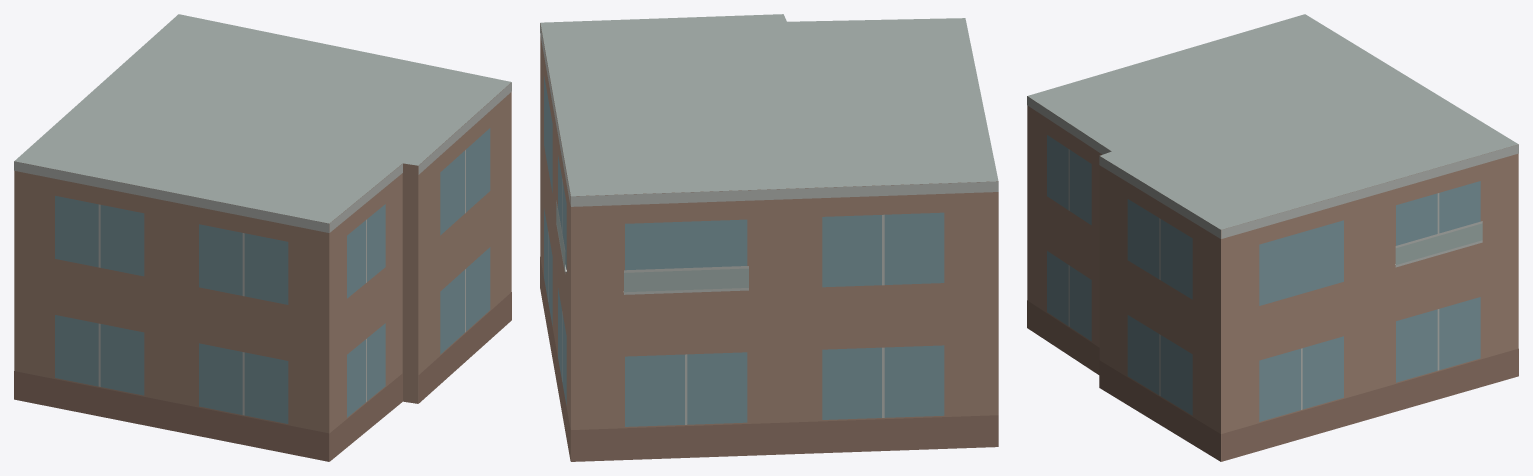
The model's file is survey-upis-32591150.glb.
3 renders of one model, left to right at view 1: azimuth 30°, elevation 25°; view 2: azimuth 150°, elevation 25°; view 3: azimuth 270°, elevation 25°, orthographic. The views are drawn at different scales.
Visible parts, largest first — view 1: survey-upis-32591150.tmp; view 2: survey-upis-32591150.tmp; view 3: survey-upis-32591150.tmp.
Boxes of the visible parts, x1,y1,x2,y2 form: survey-upis-32591150.tmp: [14, 14, 511, 461]; survey-upis-32591150.tmp: [540, 14, 998, 461]; survey-upis-32591150.tmp: [1027, 14, 1518, 461].
Size of the model in its own units: 12.18 by 6.1 by 11.72.
